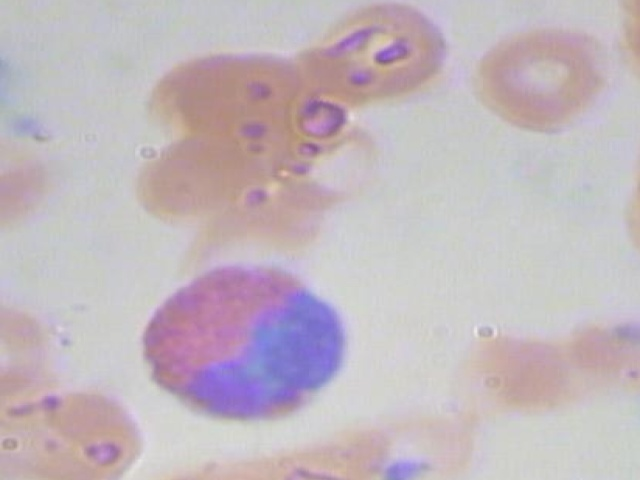Platelets: (0, 102, 58, 139), (371, 451, 428, 480), (603, 311, 640, 353), (631, 387, 640, 429)
RBC: (87, 123, 257, 247), (458, 20, 628, 143), (145, 26, 314, 149), (291, 0, 460, 108), (424, 321, 574, 428), (0, 380, 150, 480), (0, 120, 69, 243), (0, 286, 64, 395), (604, 149, 640, 273), (607, 0, 640, 116), (631, 65, 640, 189), (625, 430, 640, 480)
WBC: (127, 250, 361, 427), (0, 4, 13, 136)
